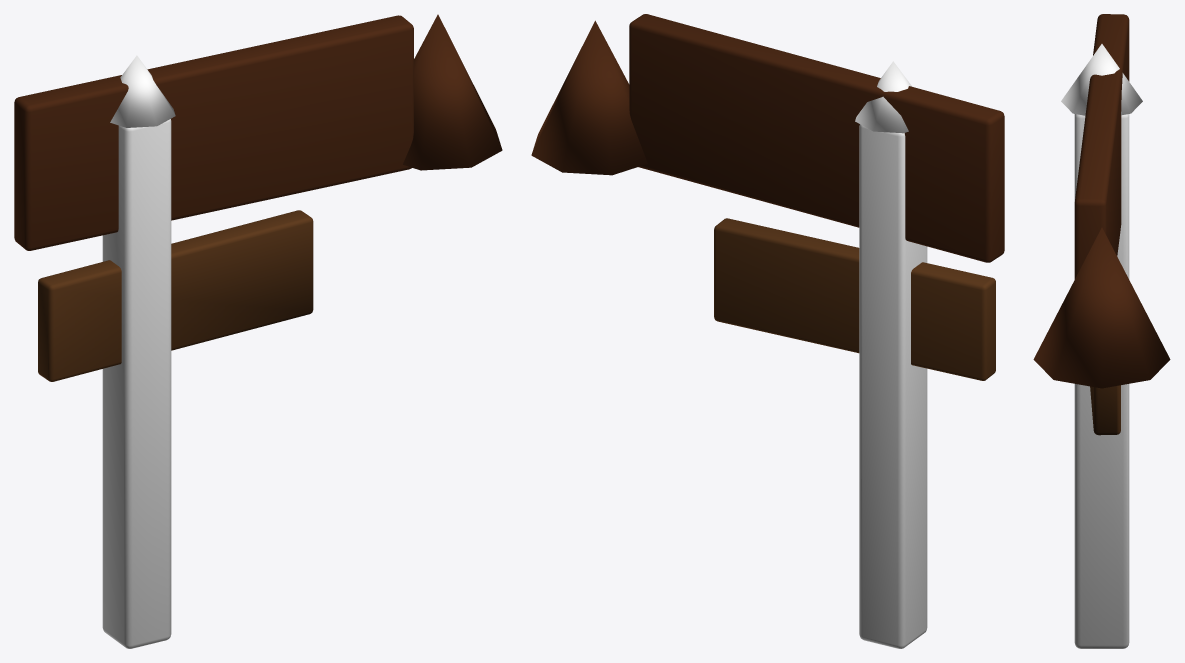
File: wooden-sign.obj
3 views of the same model, side by side, from view 1: azimuth 30°, elevation 25°; view 2: azimuth 150°, elevation 25°; view 3: azimuth 270°, elevation 25° (orthographic). The views are drawn at different scales.
Visible parts, largest first — view 1: wooden-sign; view 2: wooden-sign; view 3: wooden-sign.
Part boxes in pixels (x1,y1,x2,y2): wooden-sign: (14,14,502,648); wooden-sign: (531,14,1004,648); wooden-sign: (1033,14,1170,648).
Bounding box in the file's own units: 1.22 × 1.44 × 0.3.
